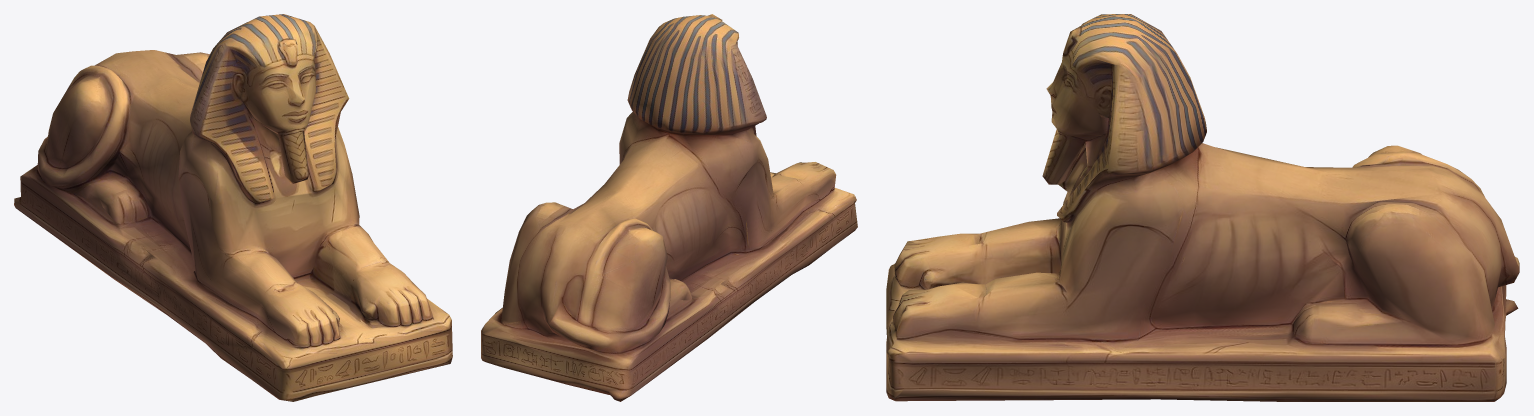
File: sphinx_small.glb
The picture shows the model from 3 angles, left to right: view 1: azimuth 30°, elevation 25°; view 2: azimuth 150°, elevation 25°; view 3: azimuth 270°, elevation 25°; orthographic projection. The views are drawn at different scales.
Parts seen in each view (by area): view 1: sphinx_small; view 2: sphinx_small; view 3: sphinx_small.
Boxes of the visible parts, x1=… form: sphinx_small: x1=14, y1=14, x2=452, y2=401; sphinx_small: x1=481, y1=14, x2=857, y2=401; sphinx_small: x1=886, y1=14, x2=1519, y2=401.
Bounding box in the file's own units: 0.7066 × 1.12 × 1.91.
1 material, 1 textured.
